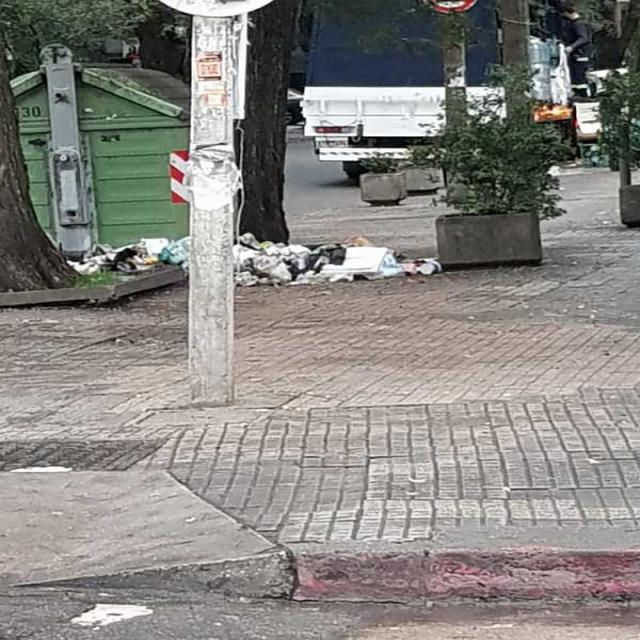garbage: (228, 226, 442, 292), (63, 231, 194, 279)
